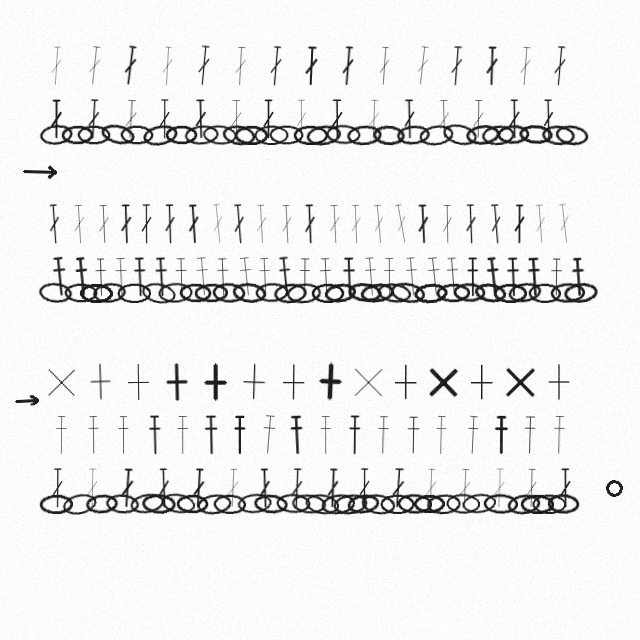chain: (441, 121, 479, 148), (99, 121, 136, 148), (141, 122, 179, 148), (140, 280, 177, 306), (61, 491, 98, 517), (389, 280, 426, 305), (507, 280, 543, 305), (129, 491, 165, 516), (160, 491, 196, 516), (305, 123, 342, 147), (418, 123, 455, 147), (196, 492, 233, 516), (332, 492, 369, 516), (221, 123, 257, 147), (554, 123, 590, 147), (359, 281, 395, 305), (376, 281, 412, 305), (304, 492, 340, 516), (320, 492, 356, 516), (360, 492, 396, 516), (506, 492, 542, 516), (323, 281, 358, 305), (473, 281, 508, 305), (346, 492, 381, 516), (231, 281, 267, 304), (461, 492, 497, 515), (465, 123, 500, 146), (38, 281, 73, 304), (92, 281, 127, 304), (347, 281, 382, 304), (563, 281, 598, 304), (237, 492, 272, 515), (346, 124, 382, 146), (286, 282, 322, 304), (291, 493, 327, 515), (39, 123, 73, 146), (184, 124, 219, 146), (202, 124, 237, 146), (396, 124, 431, 146), (541, 124, 576, 146), (273, 282, 308, 304), (413, 282, 448, 304), (105, 493, 140, 515), (253, 493, 288, 515), (426, 493, 461, 515), (372, 124, 406, 146), (481, 124, 515, 146), (85, 493, 119, 515), (326, 124, 361, 145), (518, 124, 553, 145), (158, 282, 193, 303), (550, 282, 585, 303), (141, 493, 176, 514), (276, 493, 311, 514), (397, 493, 432, 514), (483, 493, 518, 514), (212, 282, 246, 303), (255, 282, 289, 303), (446, 493, 480, 514), (254, 125, 289, 145), (269, 125, 304, 145), (293, 125, 328, 145), (380, 494, 415, 514), (497, 124, 530, 145), (453, 282, 486, 303), (547, 493, 580, 514), (77, 125, 111, 145), (120, 125, 154, 145), (234, 125, 268, 145), (64, 283, 98, 303), (79, 283, 113, 303), (117, 283, 151, 303), (194, 283, 228, 303), (311, 283, 345, 303), (436, 283, 470, 303), (493, 283, 527, 303), (39, 494, 73, 514), (520, 494, 554, 514), (532, 494, 566, 514), (61, 125, 94, 145), (165, 125, 198, 145), (179, 283, 212, 303), (528, 283, 561, 303), (176, 494, 209, 514), (213, 494, 246, 514), (413, 494, 446, 514)
double: (392, 203, 411, 244), (86, 45, 103, 86), (122, 45, 139, 86), (414, 45, 431, 86), (556, 203, 573, 244), (196, 45, 212, 86), (210, 203, 226, 244), (268, 46, 284, 86), (340, 46, 356, 86), (552, 46, 568, 86), (123, 99, 139, 139), (71, 204, 87, 244), (231, 204, 247, 244), (371, 204, 387, 244), (488, 204, 504, 244), (390, 468, 406, 508), (49, 46, 64, 86), (160, 46, 175, 86), (233, 46, 248, 86), (304, 46, 319, 86), (377, 46, 392, 86), (449, 46, 464, 86), (518, 46, 533, 86), (86, 99, 101, 139), (47, 204, 62, 244), (186, 204, 201, 244), (254, 204, 269, 244), (327, 204, 342, 244), (533, 204, 548, 244), (120, 468, 135, 508), (191, 468, 206, 508), (492, 468, 507, 508), (485, 46, 499, 86), (229, 99, 243, 139), (330, 99, 344, 139), (367, 99, 381, 139), (437, 99, 451, 139), (97, 204, 111, 244), (119, 204, 133, 244), (163, 204, 177, 244), (280, 204, 294, 244), (303, 204, 317, 244), (349, 204, 363, 244), (416, 204, 430, 244), (464, 204, 478, 244), (157, 468, 171, 508), (226, 468, 240, 508), (258, 468, 272, 508), (290, 468, 304, 508), (326, 468, 340, 508), (424, 468, 438, 508), (458, 468, 472, 508), (50, 99, 63, 139), (158, 99, 171, 139), (194, 99, 207, 139), (262, 99, 275, 139), (295, 99, 308, 139), (403, 99, 416, 139), (472, 99, 485, 139), (508, 99, 521, 139), (542, 99, 555, 139), (140, 204, 153, 244), (441, 204, 454, 244), (513, 204, 526, 244), (51, 468, 64, 508), (86, 468, 99, 508), (358, 468, 371, 508), (525, 468, 538, 508), (559, 468, 572, 508)
half_double: (236, 256, 256, 297), (424, 256, 444, 297), (50, 256, 69, 297), (193, 256, 212, 297), (484, 256, 503, 297), (259, 414, 278, 455), (73, 256, 91, 297), (276, 256, 294, 297), (362, 256, 380, 297), (403, 256, 421, 297), (444, 256, 462, 297), (525, 257, 543, 297), (153, 257, 170, 297), (317, 257, 334, 297), (570, 257, 587, 297), (288, 415, 305, 455), (521, 415, 538, 455), (93, 257, 109, 297), (113, 257, 129, 297), (132, 257, 148, 297), (173, 257, 189, 297), (215, 257, 231, 297), (257, 257, 273, 297), (341, 257, 357, 297), (505, 257, 521, 297), (147, 415, 163, 455), (203, 415, 219, 455), (375, 415, 391, 455), (405, 415, 421, 455), (433, 415, 449, 455), (465, 415, 481, 455), (493, 415, 509, 455), (551, 415, 567, 455), (297, 257, 312, 297), (382, 257, 397, 297), (465, 257, 480, 297), (549, 257, 564, 297), (54, 415, 69, 455), (86, 415, 101, 455), (116, 415, 131, 455), (175, 415, 190, 455), (232, 415, 247, 455), (318, 415, 333, 455), (347, 415, 362, 455)
noise: (22, 164, 59, 179), (603, 477, 625, 499), (14, 395, 41, 406)
single: (80, 361, 121, 402), (233, 361, 274, 402), (310, 361, 351, 402), (41, 362, 81, 402), (118, 362, 158, 402), (157, 362, 197, 402), (195, 362, 235, 402), (273, 362, 313, 402), (348, 362, 388, 402), (385, 362, 425, 402), (423, 362, 463, 402), (461, 362, 501, 402), (500, 362, 540, 402), (539, 362, 579, 402)
